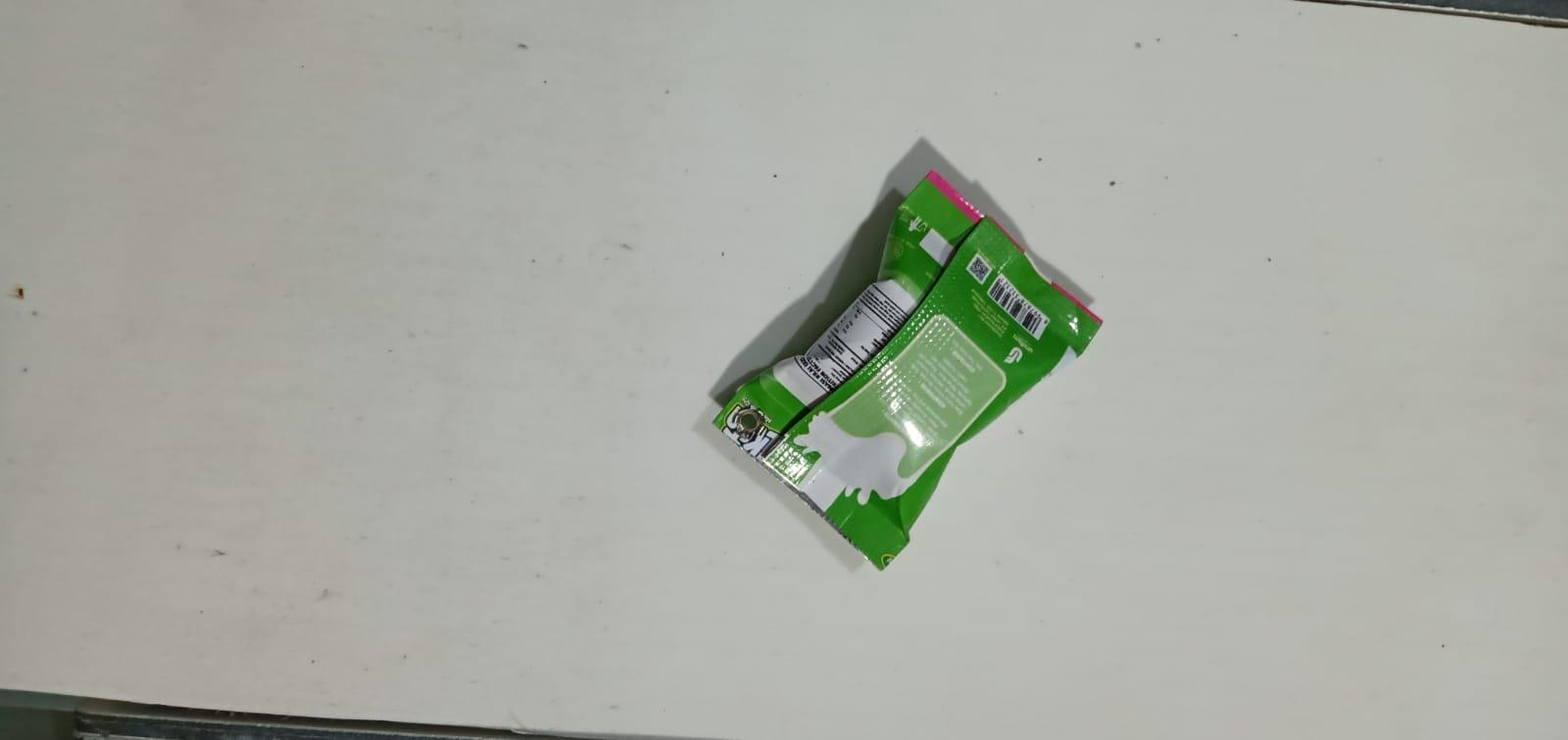Plastik: (712, 171, 1104, 572)
